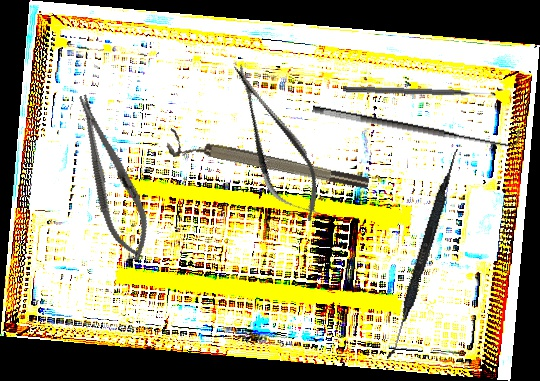Fixation Ring: (164, 128, 371, 201)
Hook Surgical: (311, 89, 521, 156), (342, 85, 494, 99)
Micro Scissor: (215, 52, 335, 233)
Needle Holder: (62, 88, 161, 266)
Spatula Surgical: (386, 146, 461, 363)
